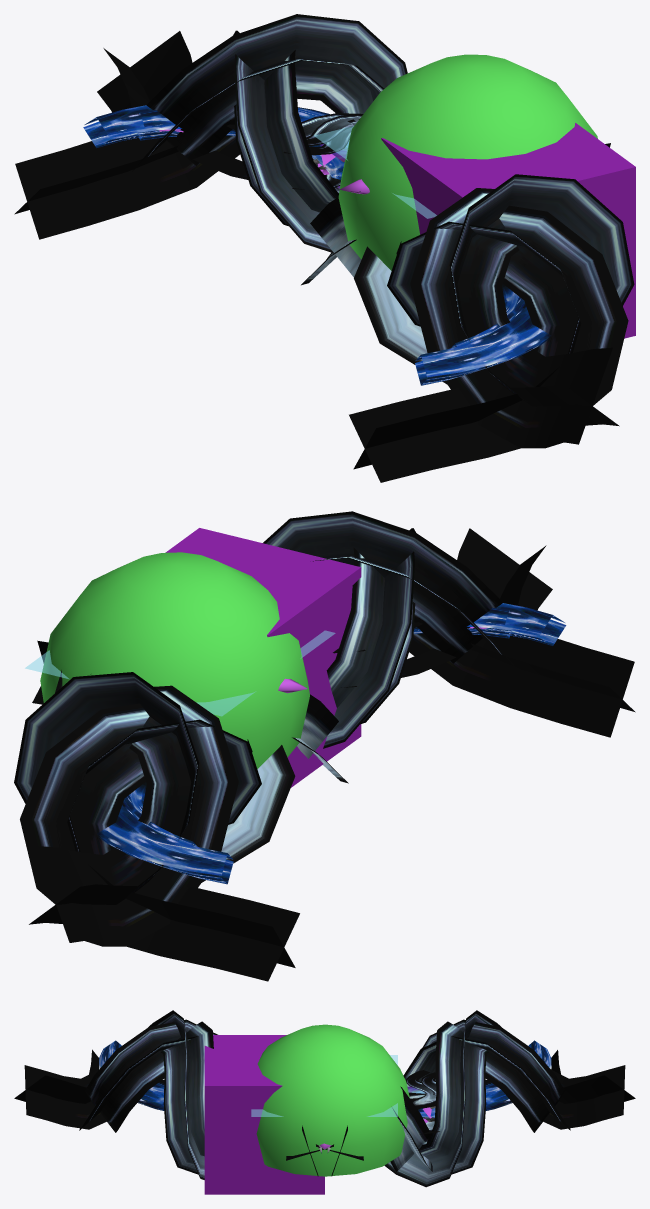
3 views of the same model, one above another, from view 1: azimuth 30°, elevation 25°; view 2: azimuth 150°, elevation 25°; view 3: azimuth 270°, elevation 25° (orthographic). The views are drawn at different scales.
Parts seen in each view (by area): view 1: object0158_Plane19, object0077_Plane03, "object0167_Editable Poly", object0213_Box, object0107_Plane05, object0155_Plane17, object0136_Plane13, object0053_Plane, object0120_Plane07, object0144_Plane14, object0128_Plane09; view 2: object0158_Plane19, object0077_Plane03, "object0167_Editable Poly", object0213_Box, object0107_Plane05, object0053_Plane, object0155_Plane17, object0120_Plane07, object0136_Plane13; view 3: object0158_Plane19, "object0167_Editable Poly", object0077_Plane03, object0213_Box, object0107_Plane05, object0128_Plane09, object0053_Plane.
Boxes of the visible parts, box(x1,y1,x2,y2) form: object0158_Plane19: box(97, 14, 634, 448); object0077_Plane03: box(14, 30, 628, 482); "object0167_Editable Poly": box(338, 54, 597, 270); object0213_Box: box(381, 123, 635, 338); object0107_Plane05: box(84, 105, 551, 377); object0155_Plane17: box(83, 121, 549, 385); object0136_Plane13: box(193, 113, 356, 179); object0053_Plane: box(314, 126, 436, 218); object0120_Plane07: box(139, 110, 524, 347); object0144_Plane14: box(306, 113, 363, 146); object0128_Plane09: box(283, 119, 359, 189); object0158_Plane19: box(14, 511, 552, 946); object0077_Plane03: box(20, 528, 635, 981); "object0167_Editable Poly": box(40, 552, 309, 768); object0213_Box: box(166, 528, 361, 787); object0107_Plane05: box(97, 603, 564, 875); object0053_Plane: box(25, 630, 335, 716); object0155_Plane17: box(98, 619, 566, 884); object0120_Plane07: box(124, 608, 509, 846); object0136_Plane13: box(401, 622, 455, 677); object0158_Plane19: box(14, 1010, 635, 1187); "object0167_Editable Poly": box(256, 1024, 409, 1176); object0077_Plane03: box(79, 1019, 570, 1171); object0213_Box: box(204, 1035, 324, 1194); object0107_Plane05: box(99, 1040, 551, 1117); object0128_Plane09: box(405, 1070, 436, 1109); object0053_Plane: box(251, 1055, 397, 1116).
Size of the model in its own units: 1.5 by 0.8597 by 3.06.
